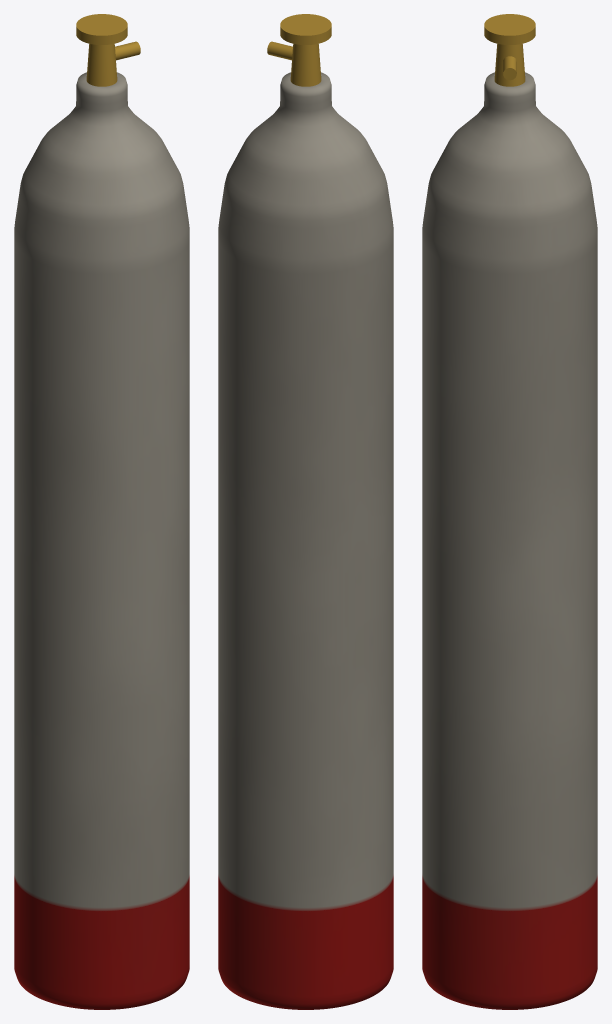
File: gasCylinder_L3.glb
3 renders of one model, left to right at view 1: azimuth 30°, elevation 25°; view 2: azimuth 150°, elevation 25°; view 3: azimuth 270°, elevation 25°, orthographic.
Parts seen in each view (by area): view 1: shell, handwheel, valve; view 2: shell, handwheel, valve; view 3: shell, handwheel, valve.
Boxes of the visible parts, bbox=[...] form: shell: bbox=[14, 72, 189, 1009]; handwheel: bbox=[76, 14, 127, 44]; valve: bbox=[86, 44, 117, 86]; shell: bbox=[218, 72, 393, 1009]; handwheel: bbox=[280, 14, 331, 44]; valve: bbox=[290, 44, 321, 86]; shell: bbox=[422, 72, 597, 1009]; handwheel: bbox=[484, 14, 535, 44]; valve: bbox=[494, 44, 525, 86].
Bounding box in the file's own units: 0.204 × 1.22 × 0.204.
2 materials, 1 textured.
